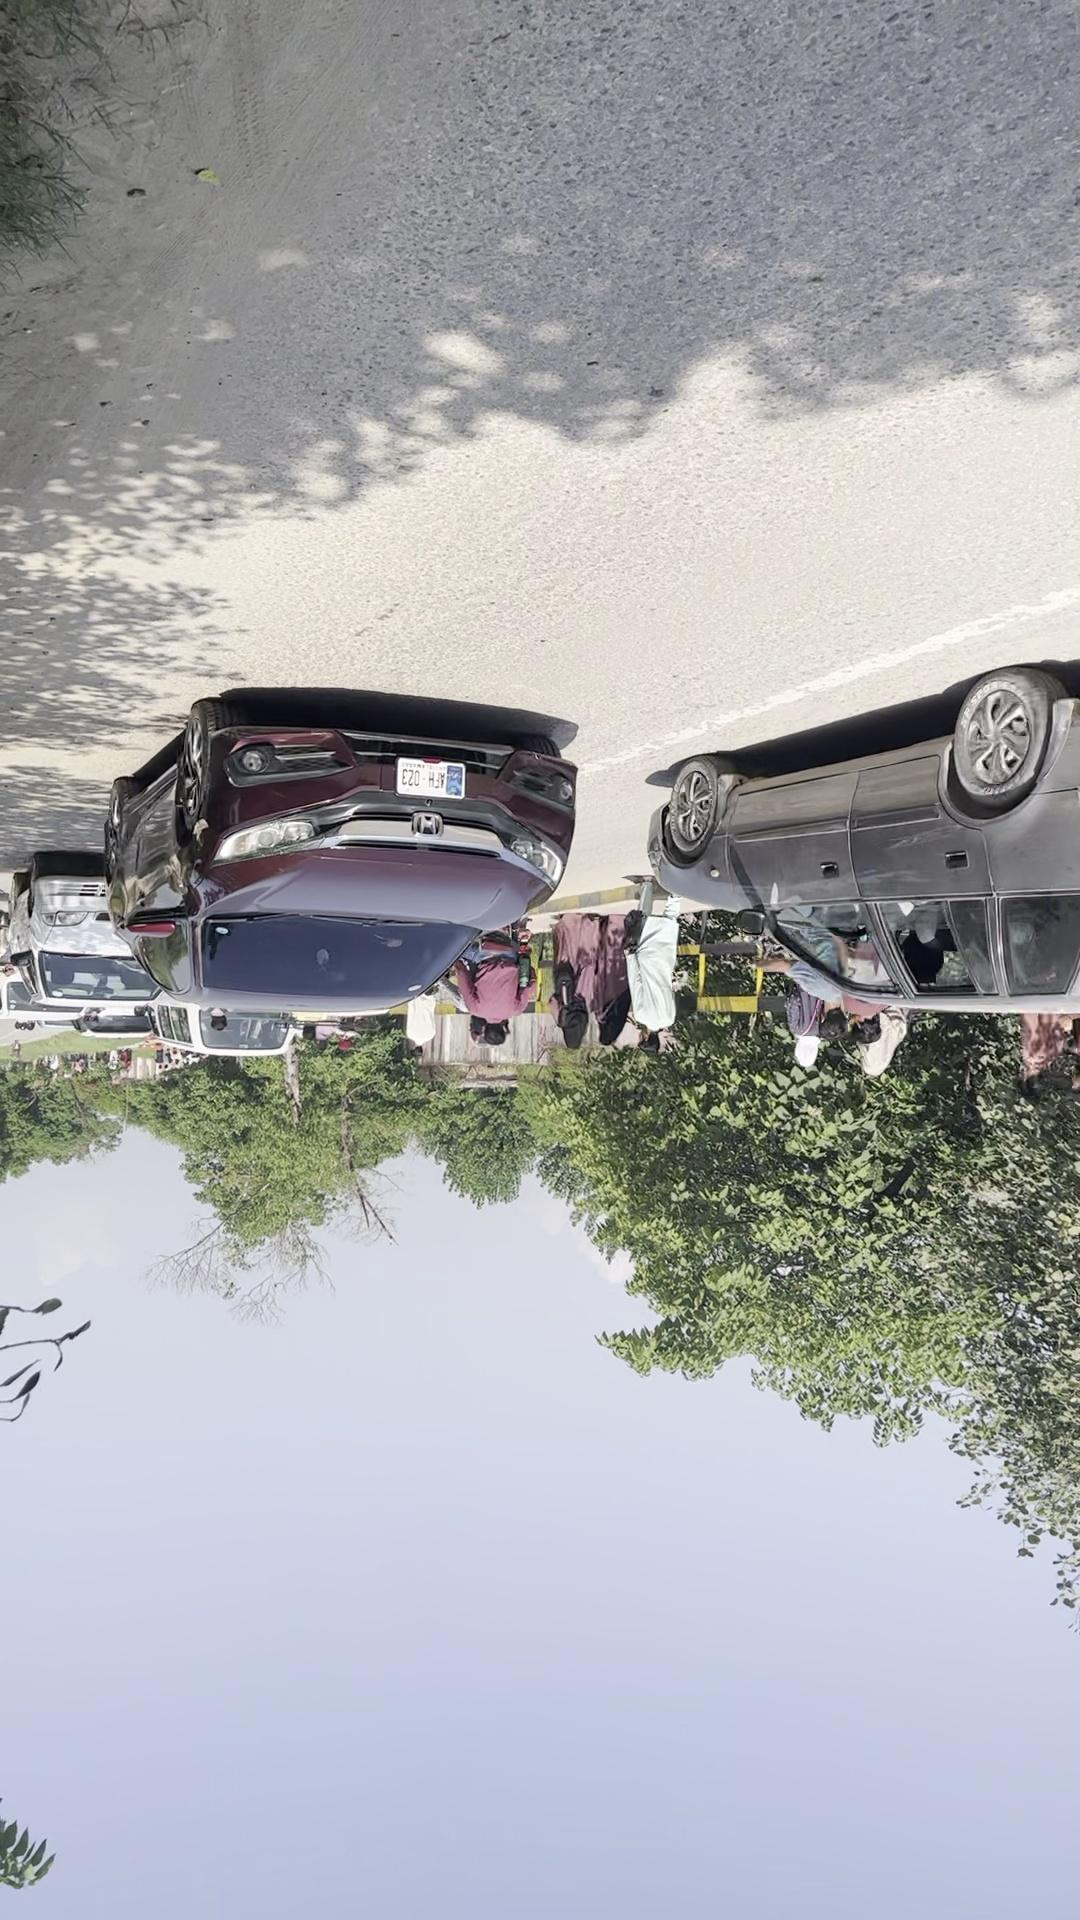windshield: (597, 920, 882, 1000)
